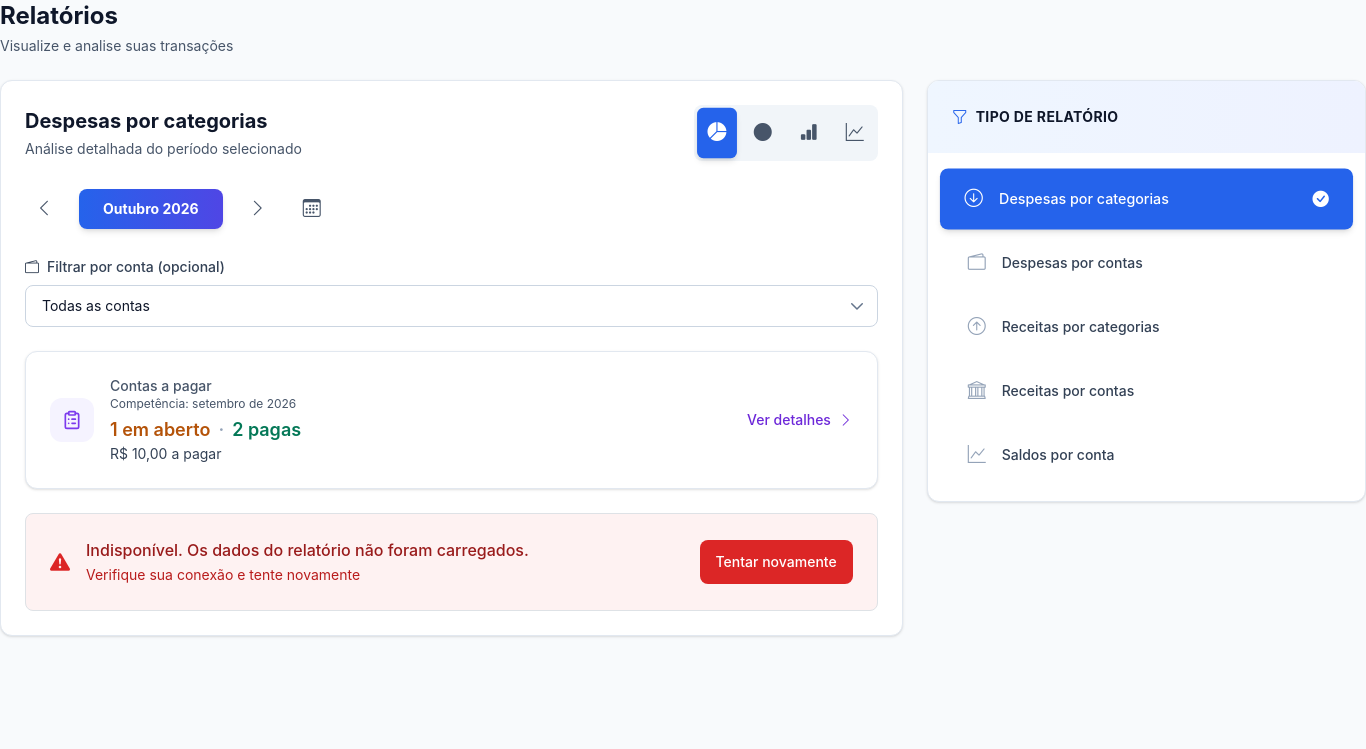
Reports › erro no relatório mostra indisponibilidade fixa, sem zeros nem "nenhum dado"
Expected: the text "Indisponível. Os dados do relatório não foram carregados." is shown, left=86, top=540, right=529, bottom=560
Expected: the text "Resumo do Período" is not shown
Click the button "Tentar novamente" at (776, 562), box left=700, top=540, right=853, bottom=584
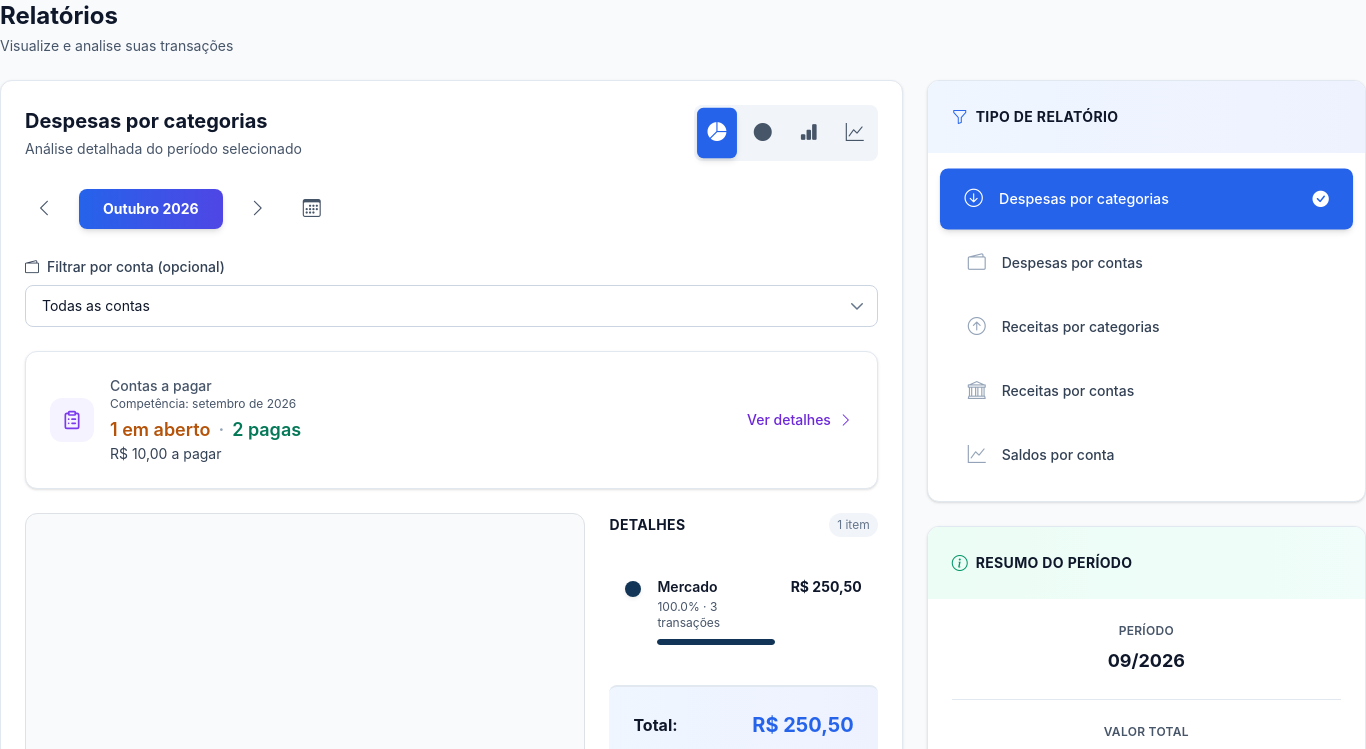
Result: the text "Mercado" is shown at left=657, top=578, right=717, bottom=595
